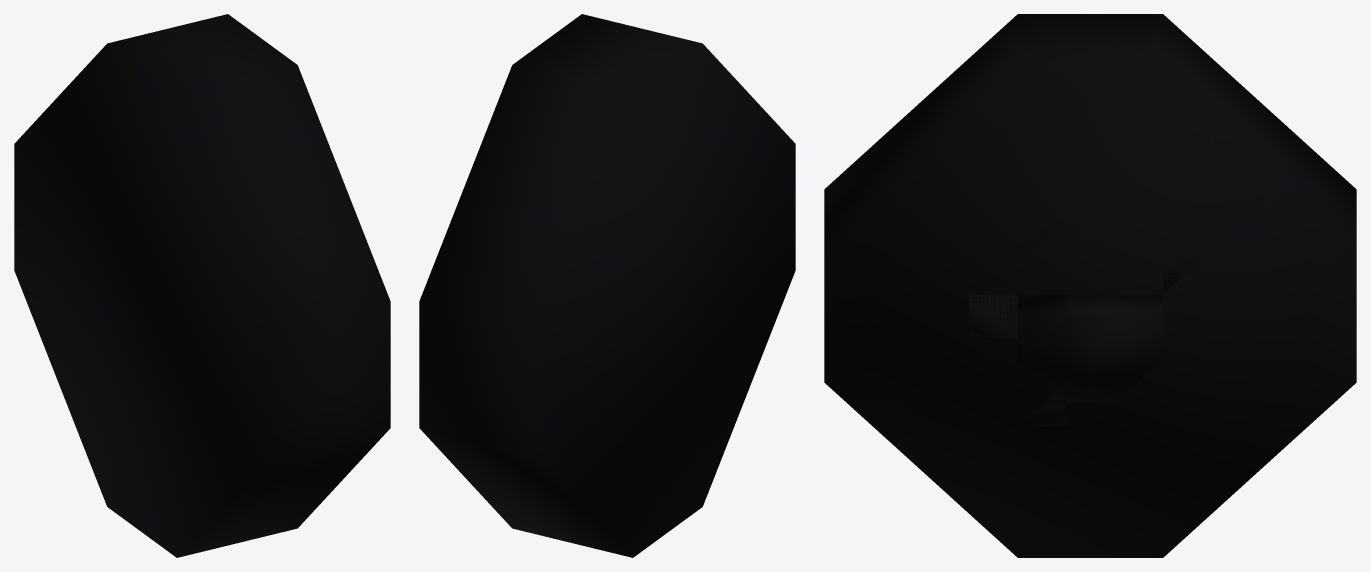
3 renders of one model, left to right at view 1: azimuth 30°, elevation 25°; view 2: azimuth 150°, elevation 25°; view 3: azimuth 270°, elevation 25°, orthographic. The views are drawn at different scales.
Bounding box in the file's own units: 0.32 × 0.88 × 0.88.
Materials: 1 (1 with a texture image).
